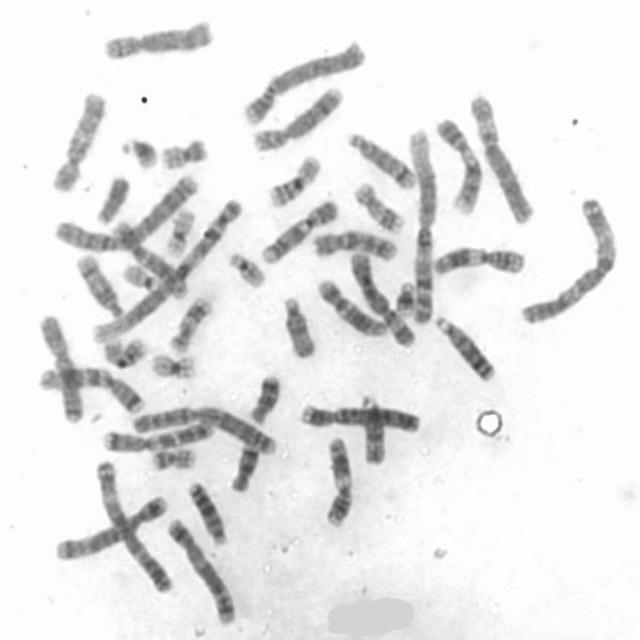A1: (87, 193, 246, 346), (402, 122, 440, 325)
A2: (50, 167, 204, 253), (127, 398, 281, 457)
A3: (515, 190, 622, 326), (90, 454, 175, 596)
B4: (237, 34, 369, 128), (296, 397, 424, 435)
B5: (162, 510, 241, 626), (51, 489, 170, 563)
C10: (46, 84, 109, 194), (309, 223, 400, 263)
C11: (426, 240, 527, 277), (317, 432, 355, 528)
C12: (111, 215, 192, 299), (312, 273, 389, 338)
C6: (465, 86, 538, 226), (345, 244, 418, 349)
C7: (34, 358, 149, 414), (96, 414, 216, 454)
C8: (247, 79, 347, 153), (96, 12, 216, 62)
C9: (256, 194, 341, 266), (431, 111, 486, 217)
D13: (431, 308, 500, 384), (182, 473, 230, 546)
D14: (341, 126, 418, 191), (72, 248, 126, 321)
D15: (278, 290, 320, 360), (356, 389, 390, 467)
E16: (262, 148, 325, 208), (97, 330, 149, 369)
E17: (350, 176, 407, 235), (163, 291, 215, 355)
E18: (244, 368, 284, 425), (226, 436, 262, 494)
F19: (160, 201, 198, 258), (145, 346, 201, 382)
F20: (156, 131, 211, 171), (145, 441, 200, 472)
G21: (115, 130, 160, 171), (390, 274, 418, 317)
G22: (225, 246, 269, 290), (118, 257, 163, 292)
X: (32, 309, 85, 424)
Y: (91, 169, 132, 226)
